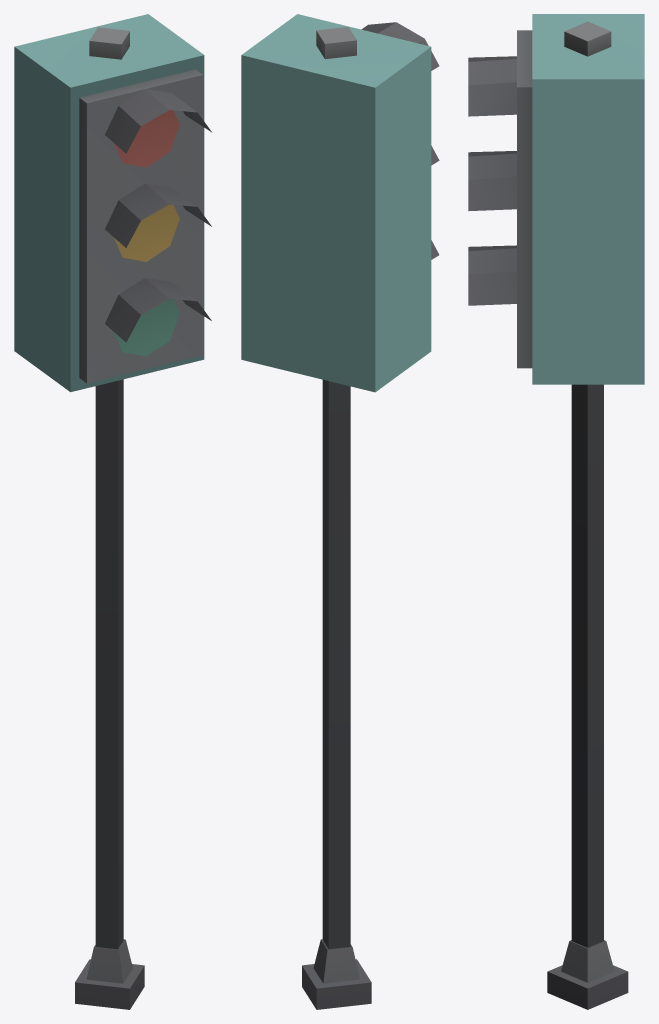
The model's file is light.lod1.glb.
The picture shows the model from 3 angles, left to right: view 1: azimuth 30°, elevation 25°; view 2: azimuth 150°, elevation 25°; view 3: azimuth 270°, elevation 25°; orthographic projection.
Size of the model in its own units: 0.4601 by 3.15 by 0.524.
